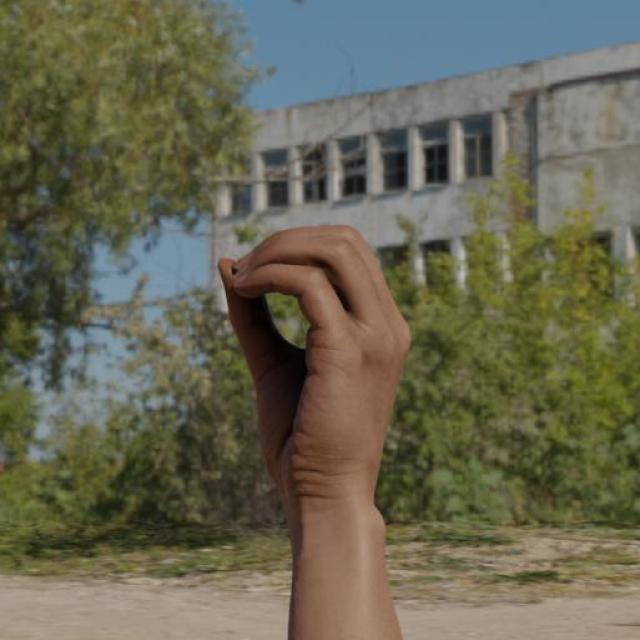O: (168, 178, 435, 527)
